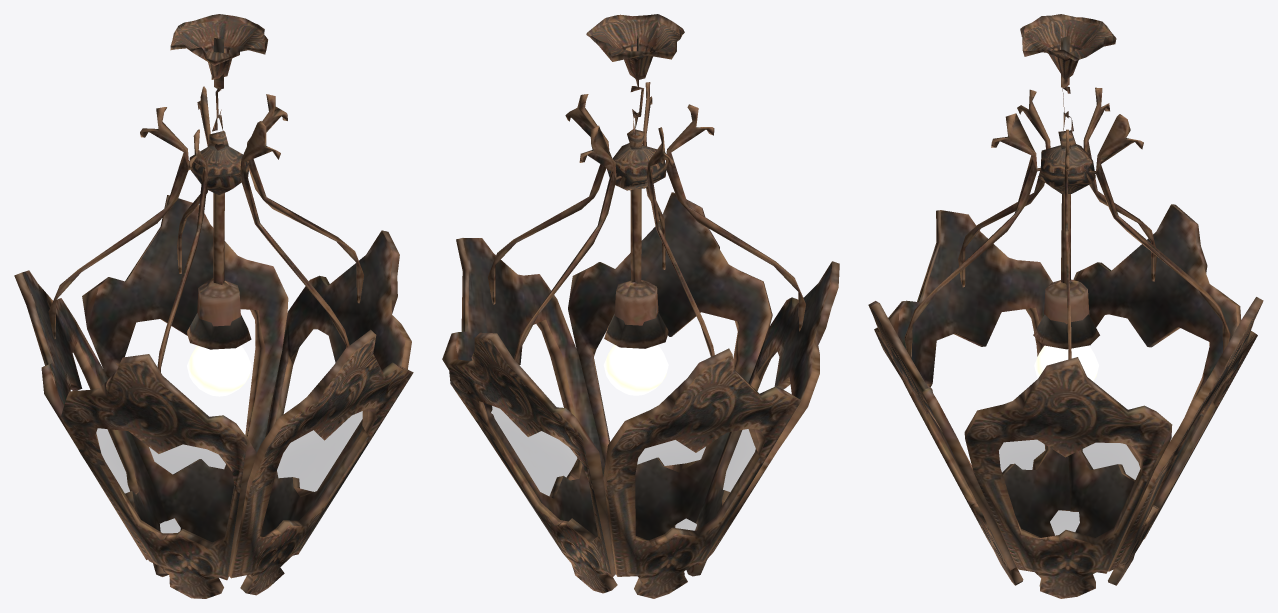
Rendered from lantern_chandelier_01.glb.
3 renders of one model, left to right at view 1: azimuth 30°, elevation 25°; view 2: azimuth 150°, elevation 25°; view 3: azimuth 270°, elevation 25°, orthographic.
Visible parts, largest first — view 1: lantern_chandelier_01; view 2: lantern_chandelier_01; view 3: lantern_chandelier_01.
Part boxes in pixels (x1,y1,x2,y2): lantern_chandelier_01: [14, 14, 413, 598]; lantern_chandelier_01: [442, 14, 839, 598]; lantern_chandelier_01: [868, 14, 1263, 598].
Bounding box in the file's own units: 0.5788 × 0.8776 × 0.5746.
3 materials, 2 textured.
